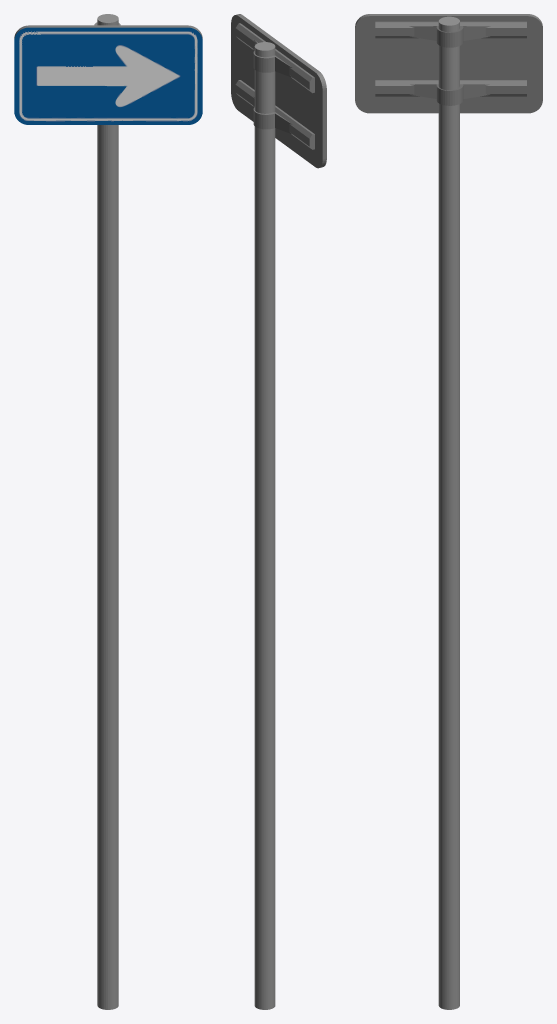
3 renders of one model, left to right at view 1: azimuth 90°, elevation 25°; view 2: azimuth 210°, elevation 25°; view 3: azimuth 270°, elevation 25°, orthographic. The views are drawn at different scales.
Visible parts, largest first — view 1: Prop, 031-0; view 2: Prop, 031-0; view 3: Prop, 031-0.
Boxes of the visible parts, box(x1,y1,x2,y2) form: Prop: box(94, 14, 120, 1009); 031-0: box(14, 25, 202, 124); Prop: box(235, 23, 314, 1009); 031-0: box(231, 14, 326, 168); Prop: box(375, 16, 526, 1009); 031-0: box(355, 14, 542, 113).
Bounding box in the file's own units: 6.76 × 235 × 40.71.
